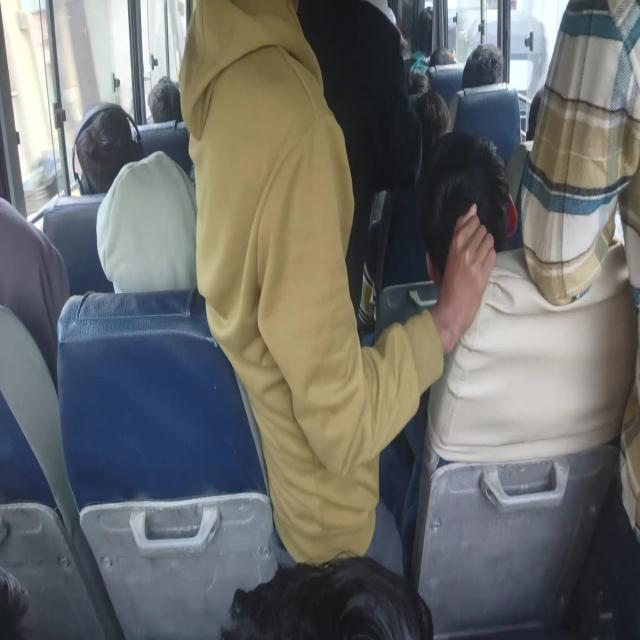person: (187, 13, 408, 519), (538, 11, 640, 549), (283, 0, 422, 208), (114, 160, 243, 305), (215, 554, 429, 640), (80, 104, 181, 220), (0, 211, 71, 326), (0, 551, 88, 640), (428, 148, 491, 256), (145, 69, 186, 139), (463, 44, 504, 95), (412, 7, 444, 48), (413, 110, 456, 140), (436, 45, 463, 79), (403, 66, 423, 88)
